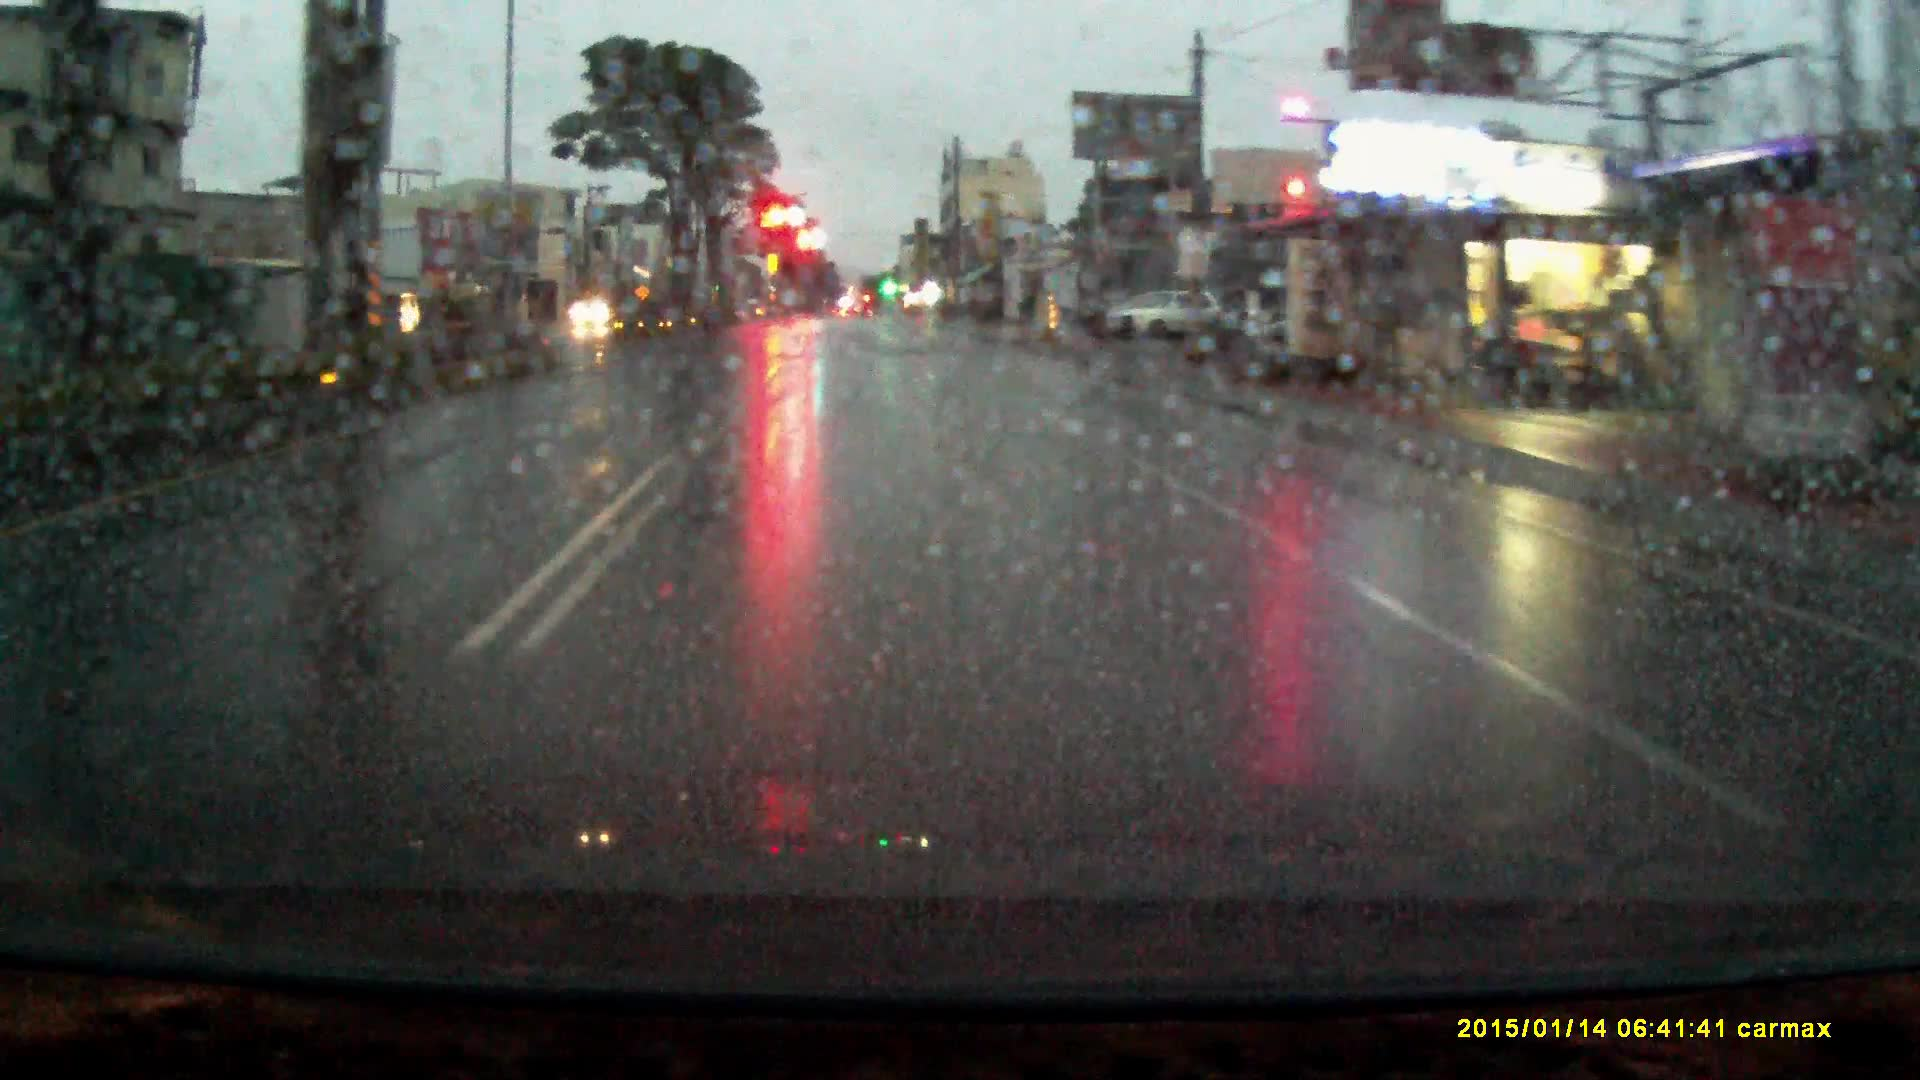vehicle: (1109, 284, 1229, 342), (568, 294, 617, 328)
